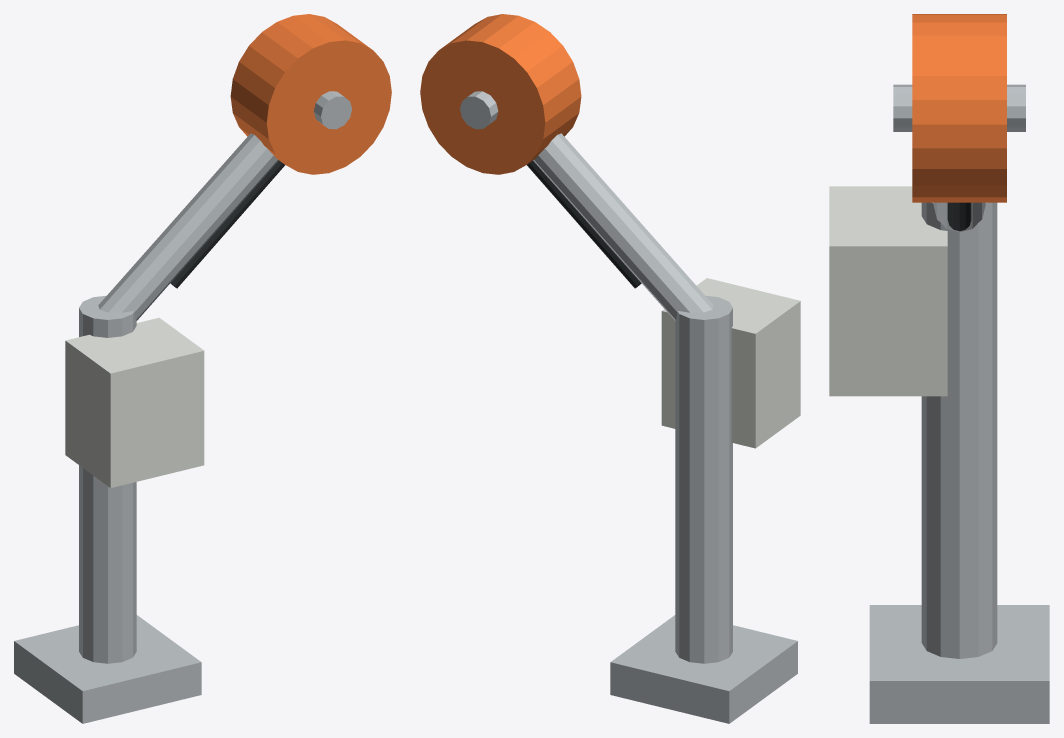
The model's file is pot_hauler.glb.
3 views of the same model, side by side, from view 1: azimuth 30°, elevation 25°; view 2: azimuth 150°, elevation 25°; view 3: azimuth 270°, elevation 25° (orthographic). The views are drawn at different scales.
Visible parts, largest first — view 1: Drive housing, Hydraulic sheave, Hauler pedestal, Mount base, Outboard davit, Rope guide, Pin; view 2: Hauler pedestal, Hydraulic sheave, Drive housing, Mount base, Outboard davit, Rope guide, Pin; view 3: Hauler pedestal, Drive housing, Hydraulic sheave, Mount base, Pin, Outboard davit, Rope guide.
Part boxes in pixels (box(x1,y1,x2,y2)): Drive housing: box(65, 317, 204, 487); Hydraulic sheave: box(230, 14, 391, 174); Hauler pedestal: box(79, 295, 136, 663); Mount base: box(14, 615, 201, 723); Outboard davit: box(98, 133, 278, 320); Rope guide: box(170, 160, 284, 288); Pin: box(313, 91, 351, 129); Hauler pedestal: box(675, 295, 732, 663); Hydraulic sheave: box(420, 14, 581, 174); Drive housing: box(661, 278, 800, 448); Mount base: box(610, 615, 797, 723); Outboard davit: box(533, 133, 713, 320); Rope guide: box(527, 160, 641, 288); Pin: box(460, 91, 498, 129); Hauler pedestal: box(921, 202, 997, 658); Drive housing: box(829, 186, 947, 396); Hydraulic sheave: box(912, 14, 1006, 202); Mount base: box(869, 605, 1049, 723); Pin: box(893, 84, 1025, 131); Outboard davit: box(933, 202, 985, 231); Rope guide: box(947, 202, 971, 231).
Bounding box in the file's own units: 1.04 × 1.85 × 0.465.
